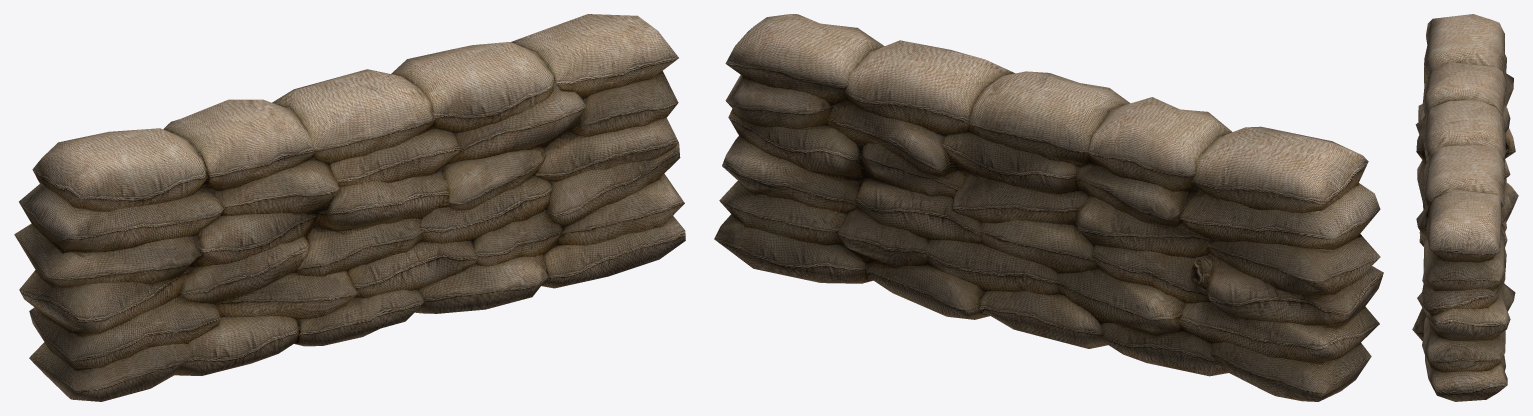
The model's file is Sandbacks.fbx.
The picture shows the model from 3 angles, left to right: view 1: azimuth 30°, elevation 25°; view 2: azimuth 150°, elevation 25°; view 3: azimuth 270°, elevation 25°; orthographic projection. The views are drawn at different scales.
Parts seen in each view (by area): view 1: Sandbags_2; view 2: Sandbags_2; view 3: Sandbags_2.
Part boxes in pixels (box(x1,y1,x2,y2)): Sandbags_2: box(14, 14, 685, 401); Sandbags_2: box(714, 14, 1383, 401); Sandbags_2: box(1412, 14, 1518, 401).
Size of the model in its own units: 3.24 by 1.18 by 0.6279.
